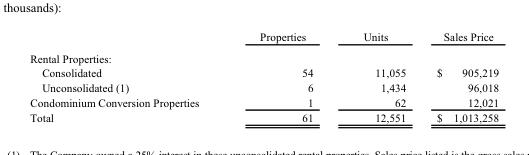table: (29, 28, 498, 124)
table column: (29, 28, 228, 124), (228, 28, 337, 124), (337, 28, 420, 124), (420, 28, 498, 124)
table column header: (29, 28, 498, 47)
table projected row header: (29, 47, 498, 65)
table row: (29, 28, 498, 47), (29, 47, 498, 65), (29, 79, 498, 94), (29, 94, 498, 109), (29, 109, 498, 124), (29, 65, 498, 79)
